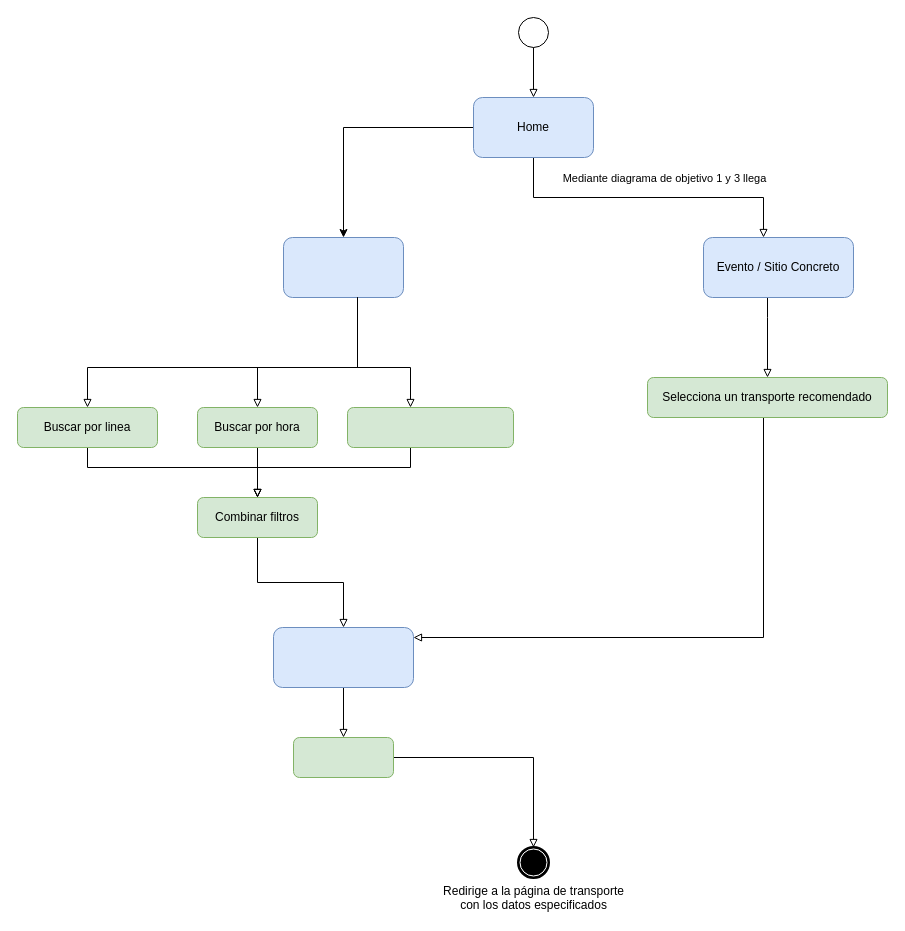
Some shapes in this 905 by 931 pixel diagram are drawn without their labels. The shapes that lost their labels are listed below. From the top down, each one's box as (x1, y1, x2, y2) in pixels, then its label:
(282, 236, 404, 298): Transporte
(346, 406, 514, 448): Buscar por origen/destino
(272, 626, 414, 688): Transporte información concreta
(292, 736, 394, 778): Comprar
